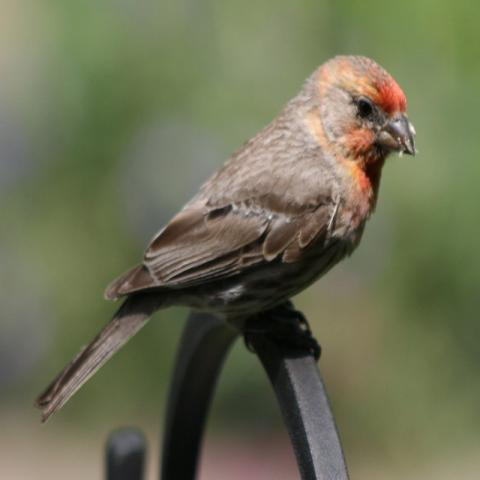bird: (33, 51, 419, 424)
